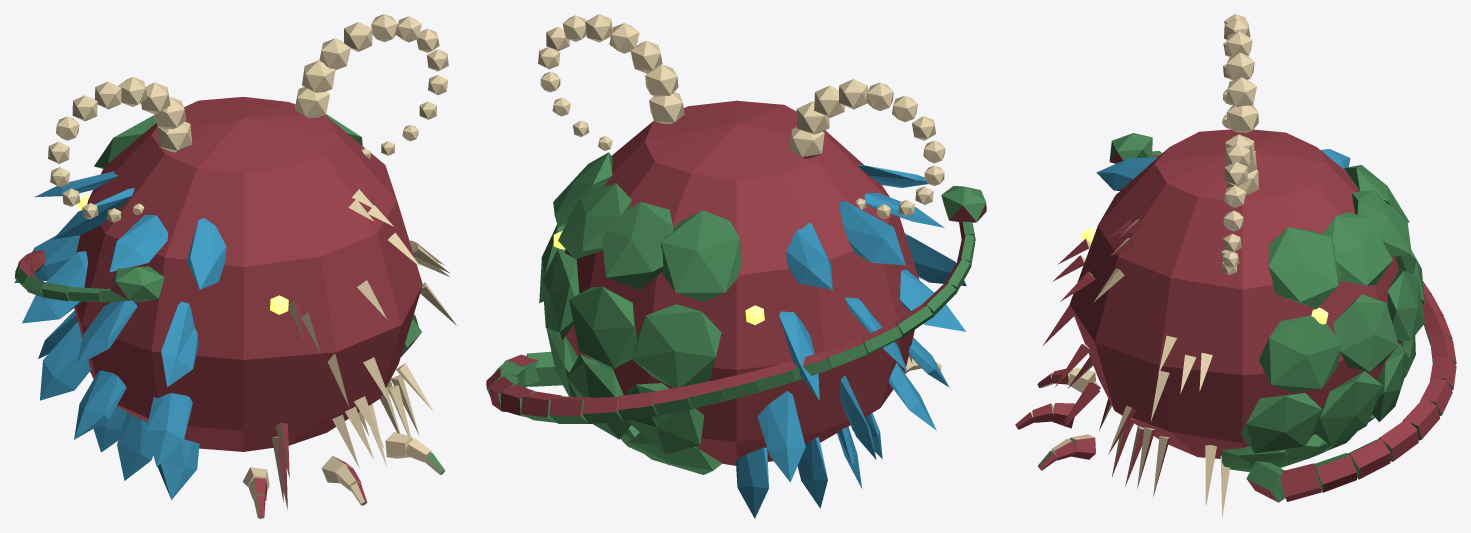
File: fruto-quimera.glb
3 views of the same model, side by side, from view 1: azimuth 30°, elevation 25°; view 2: azimuth 150°, elevation 25°; view 3: azimuth 270°, elevation 25° (orthographic). The views are drawn at different scales.
Visible parts, largest first — view 1: Fruit_Body; view 2: Fruit_Body; view 3: Fruit_Body.
Part boxes in pixels (left/top/right/bottom): Fruit_Body: left=14, top=14, right=456, bottom=518; Fruit_Body: left=486, top=14, right=986, bottom=518; Fruit_Body: left=1015, top=14, right=1456, bottom=518.
Bounding box in the file's own units: 1.31 × 1.26 × 1.31.
